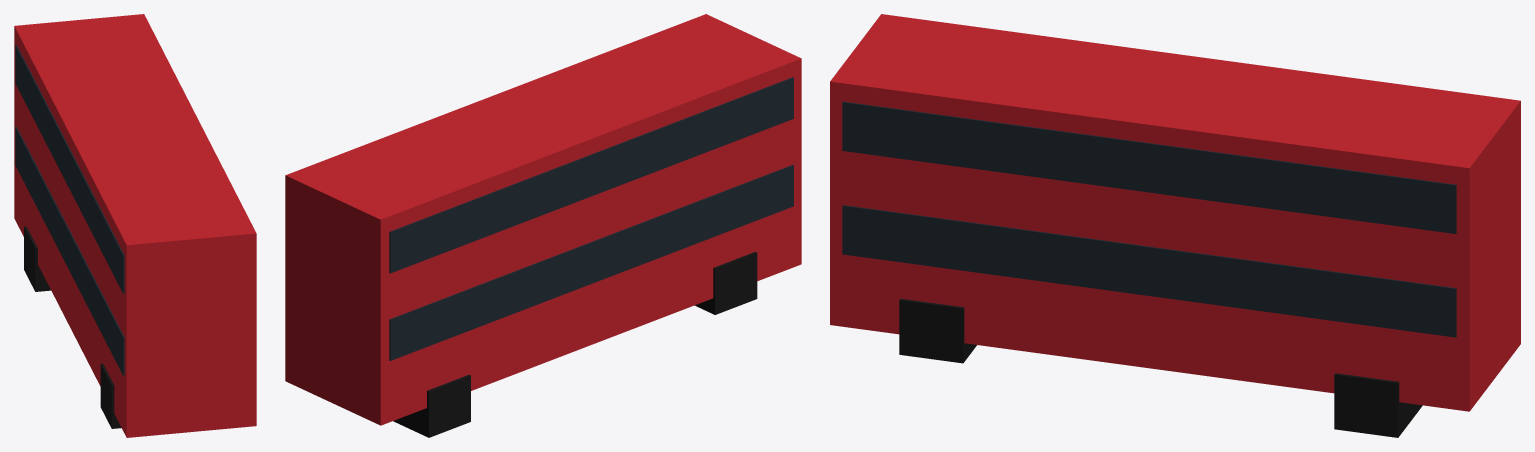
File: hilton_bus.glb
3 renders of one model, left to right at view 1: azimuth 30°, elevation 25°; view 2: azimuth 150°, elevation 25°; view 3: azimuth 270°, elevation 25°, orthographic. The views are drawn at different scales.
Visible parts, largest first — view 1: hilton_bus_lod0; view 2: hilton_bus_lod0; view 3: hilton_bus_lod0.
Boxes of the visible parts, x1,y1,x2,y2 form: hilton_bus_lod0: (14, 14, 256, 437); hilton_bus_lod0: (285, 14, 801, 437); hilton_bus_lod0: (830, 14, 1520, 437).
Size of what is drawn, in the model's own units: 5.43 by 4.57 by 10.29.
